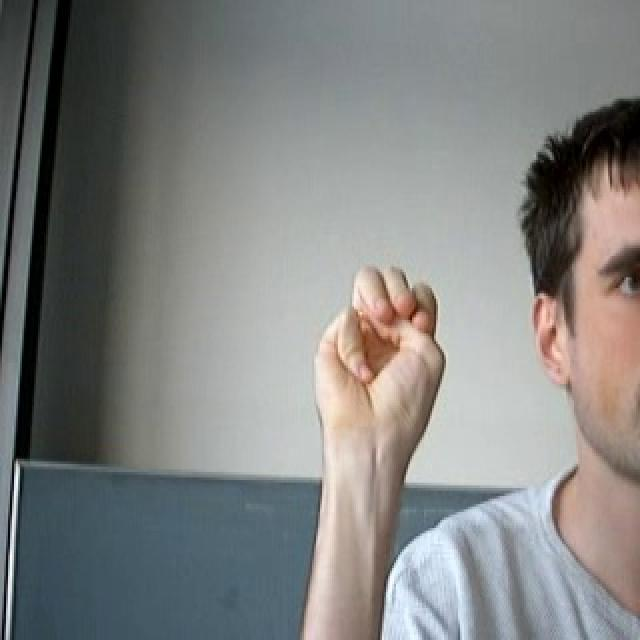M: (302, 239, 458, 476)
